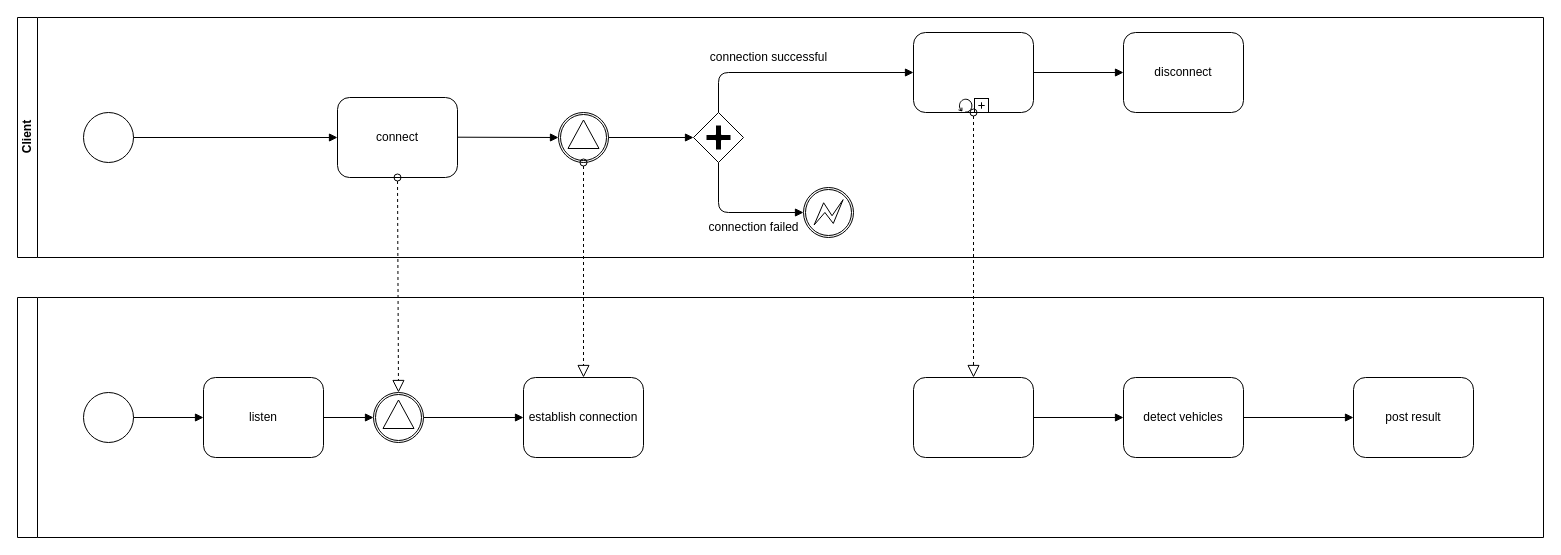
This 1561x555 diagram has some shape labels left out. Here are the shapes that lost their labels. From the top down, the box of each, then its label:
(912, 32, 1034, 112): send video frame
(16, 296, 1544, 538): Server
(912, 376, 1034, 458): receive video frame
